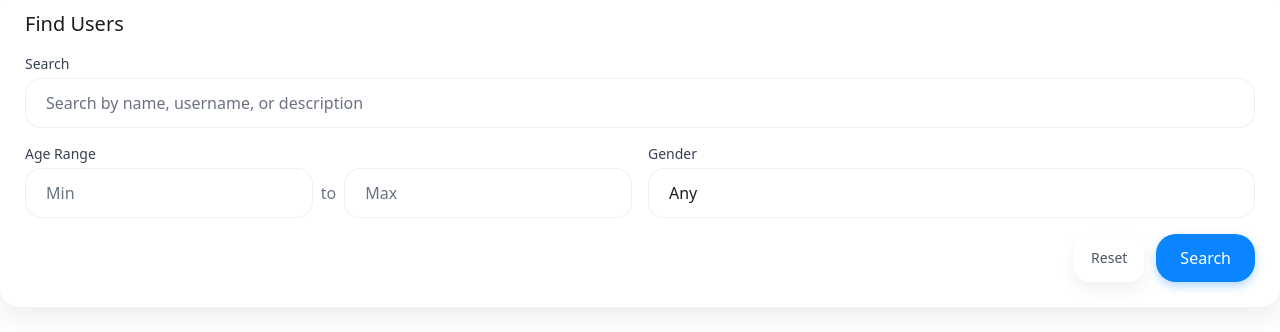
Test: User Search Form › should reset all form fields when reset button is clicked
Fill in search parameters
Type "test query" into the field with placeholder "Search by name, username, or description" at (640, 103), box left=25, top=78, right=1255, bottom=128
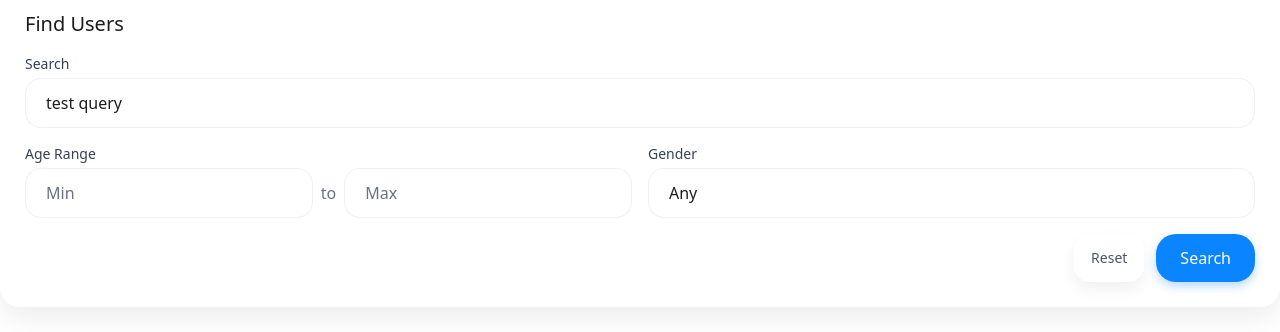
Set min and max age
Type "25" into the number field with placeholder "Min" at (169, 193), box left=25, top=168, right=313, bottom=218
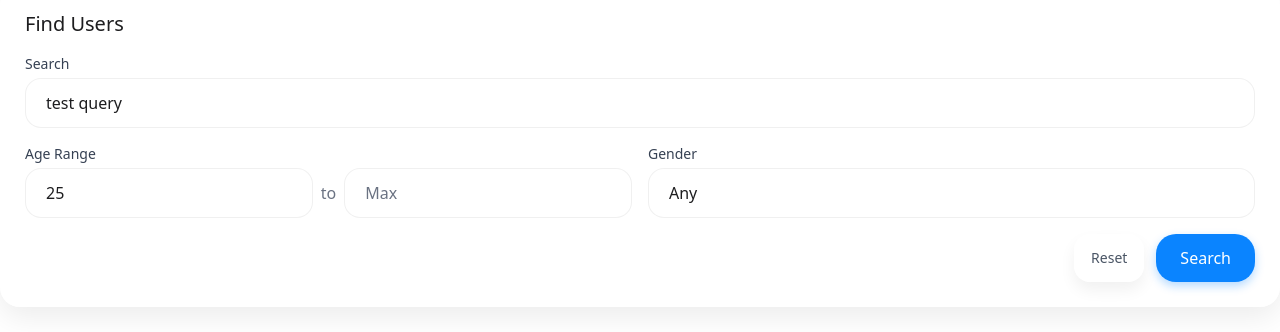
Type "40" into the number field with placeholder "Max" at (488, 193), box left=344, top=168, right=632, bottom=218
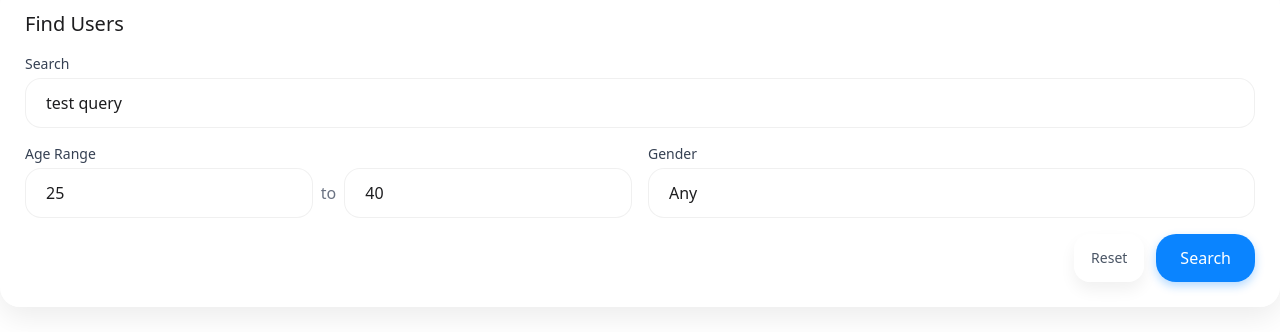
Select gender
Select "Female" in the dropdown labelled "Gender" at (952, 193), box left=648, top=168, right=1255, bottom=218
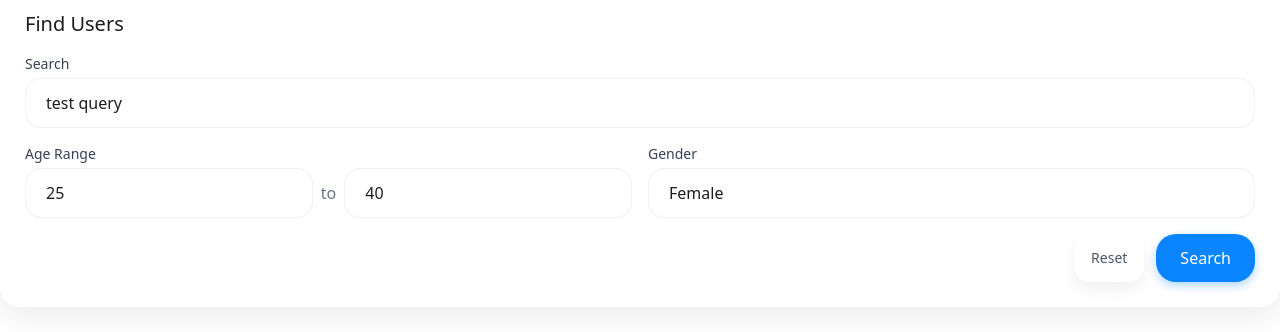
Click reset button
Click the button "Reset" at (1109, 258), box left=1074, top=234, right=1144, bottom=282
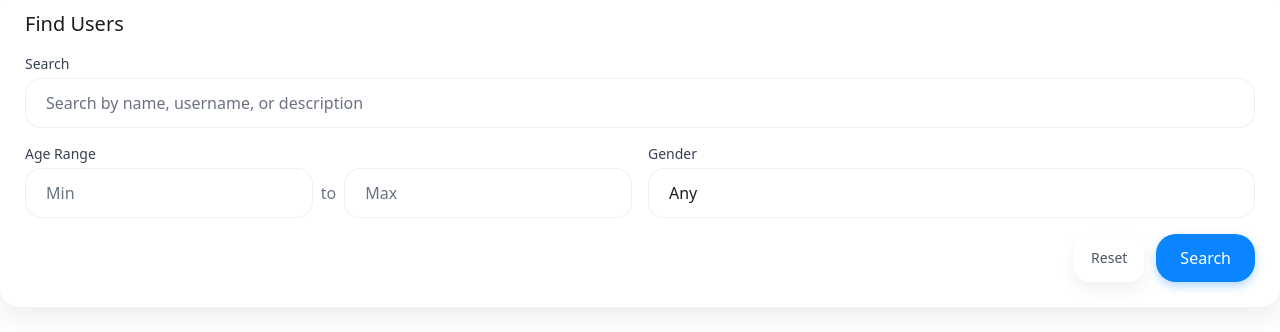
Now the field with placeholder "Search by name, username, or description" is empty, box left=25, top=78, right=1255, bottom=128
Now the number field with placeholder "Min" is not empty, box left=25, top=168, right=313, bottom=218
Now the number field with placeholder "Max" is not empty, box left=344, top=168, right=632, bottom=218
